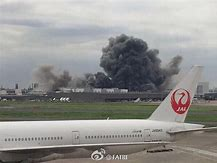smoke: (91, 36, 170, 92)
